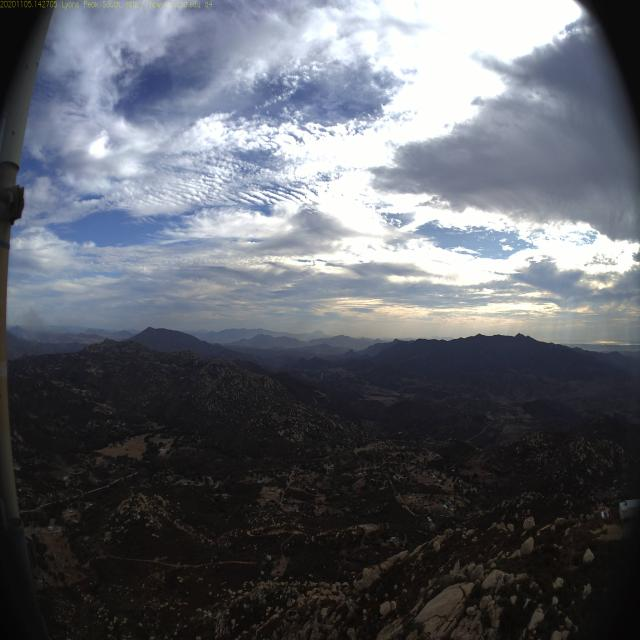smoke: (6, 302, 60, 347)
